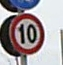limite 10: (10, 12, 44, 55)
